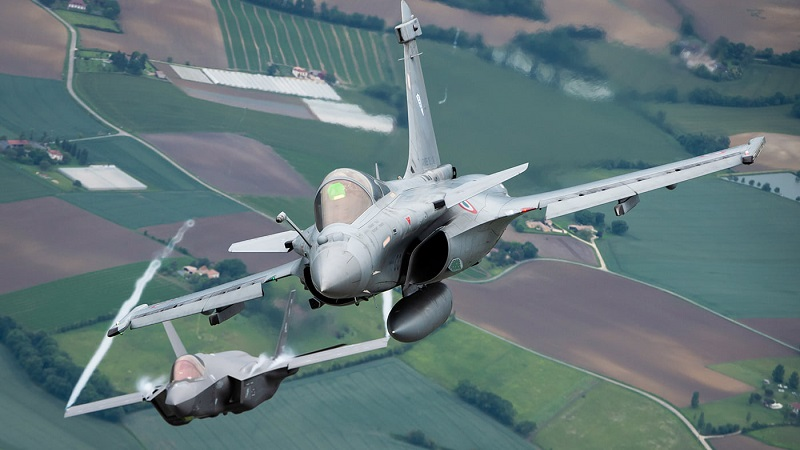F35: (63, 288, 391, 429)
Rafale: (106, 1, 765, 338)
